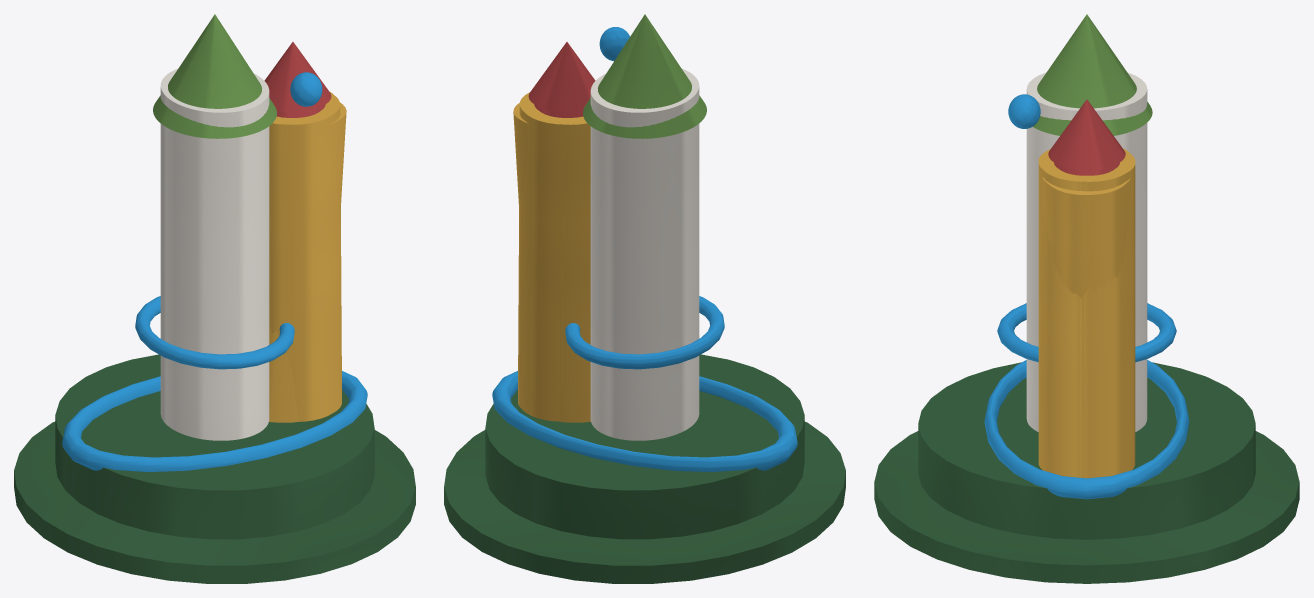
The model's file is 0654_史前人类图鉴_石器工具.glb.
3 views of the same model, side by side, from view 1: azimuth 30°, elevation 25°; view 2: azimuth 150°, elevation 25°; view 3: azimuth 270°, elevation 25° (orthographic).
Parts seen in each view (by area): view 1: card_0654; view 2: card_0654; view 3: card_0654.
Boxes of the visible parts, x1,y1,x2,y2 form: card_0654: [14, 14, 415, 583]; card_0654: [444, 14, 845, 583]; card_0654: [874, 14, 1299, 583].
Bounding box in the file's own units: 0.7421 × 1 × 0.7929.
